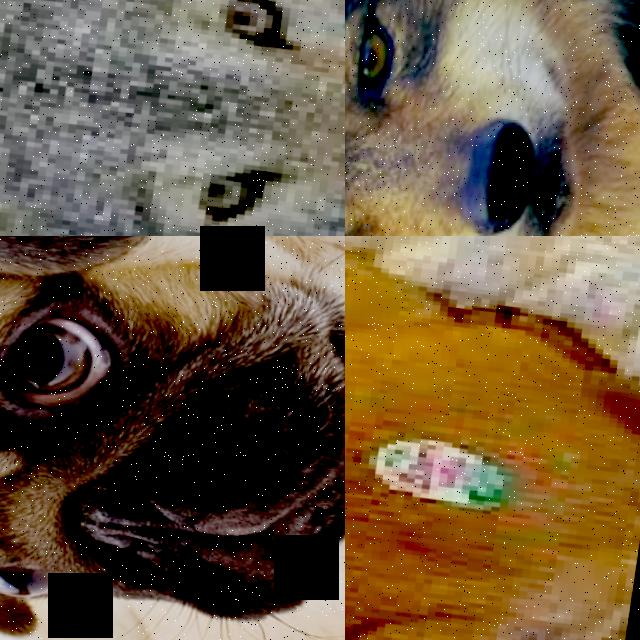dog: (0, 236, 345, 640), (345, 236, 640, 640)
wolf: (0, 0, 345, 236), (345, 0, 640, 236)
